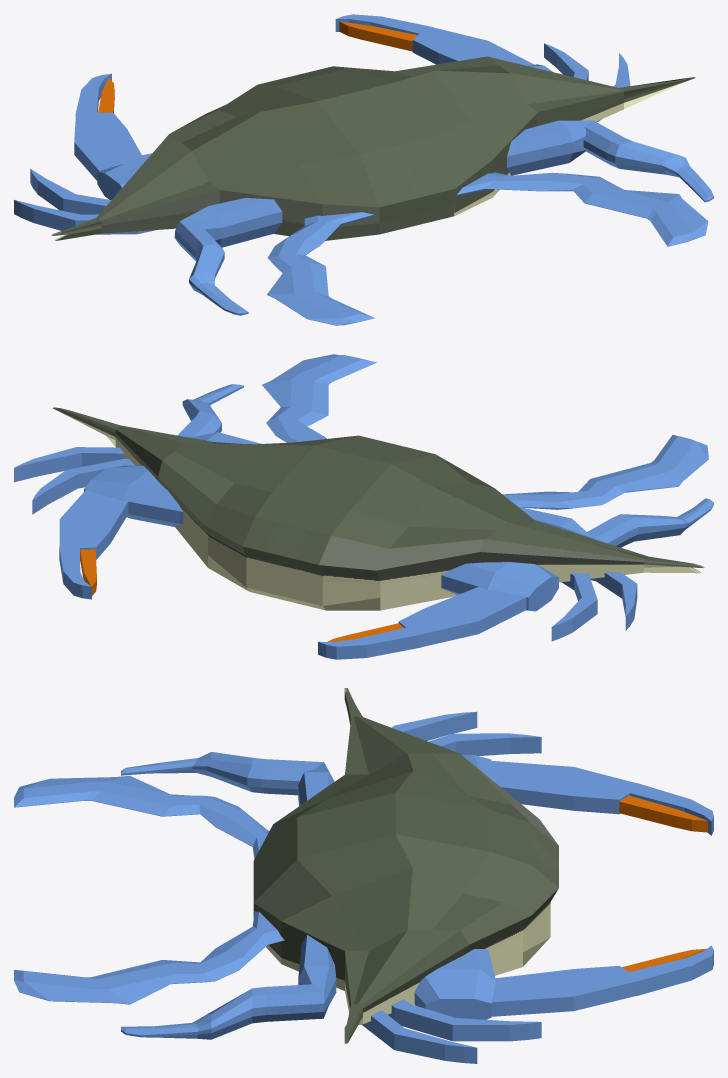
The model's file is Crab.glb.
The picture shows the model from 3 angles, top to bottom: view 1: azimuth 30°, elevation 25°; view 2: azimuth 150°, elevation 25°; view 3: azimuth 270°, elevation 25°; orthographic projection. The views are drawn at different scales.
Parts seen in each view (by area): view 1: body_0; view 2: body_0; view 3: body_0.
Boxes of the visible parts, x1,y1,x2,y2 form: body_0: [14, 14, 713, 325]; body_0: [14, 354, 713, 659]; body_0: [14, 688, 713, 1063].
Size of the model in its own units: 3.41 by 0.5227 by 2.82.
Materials: 3 (1 with a texture image).
